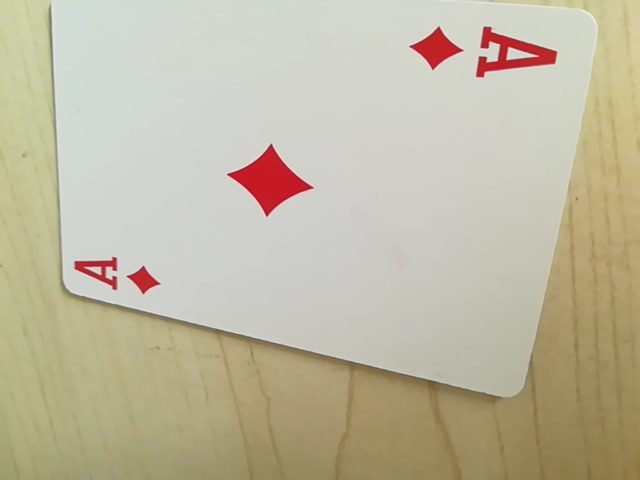fk a: (415, 18, 557, 83), (64, 246, 170, 303)
